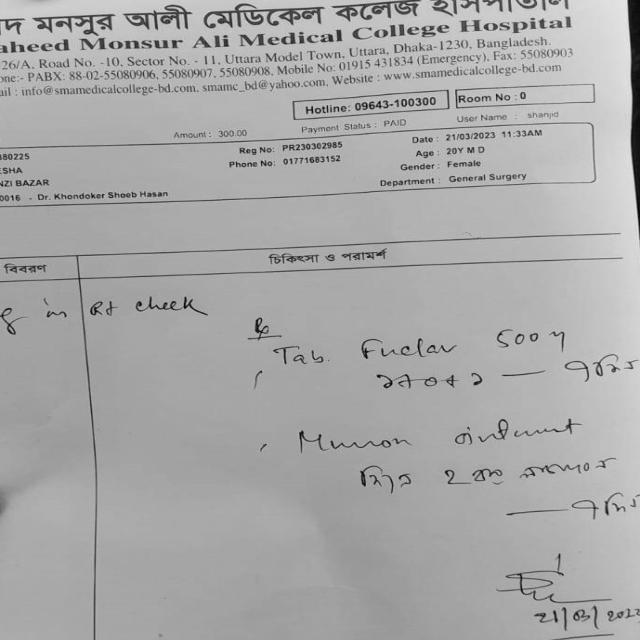medicine: (286, 424, 420, 456), (350, 332, 460, 367)
